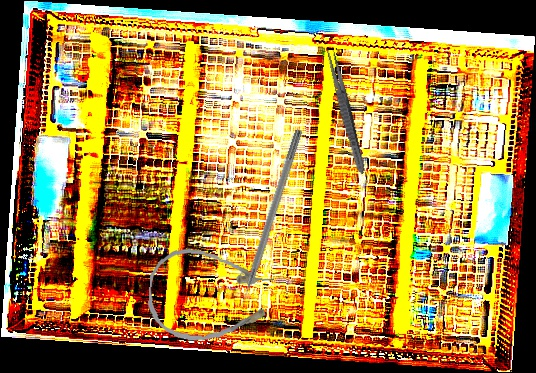Cannula: (145, 245, 277, 347)
Dressing Forceps: (322, 45, 369, 176)
Pusher: (232, 127, 304, 318)
